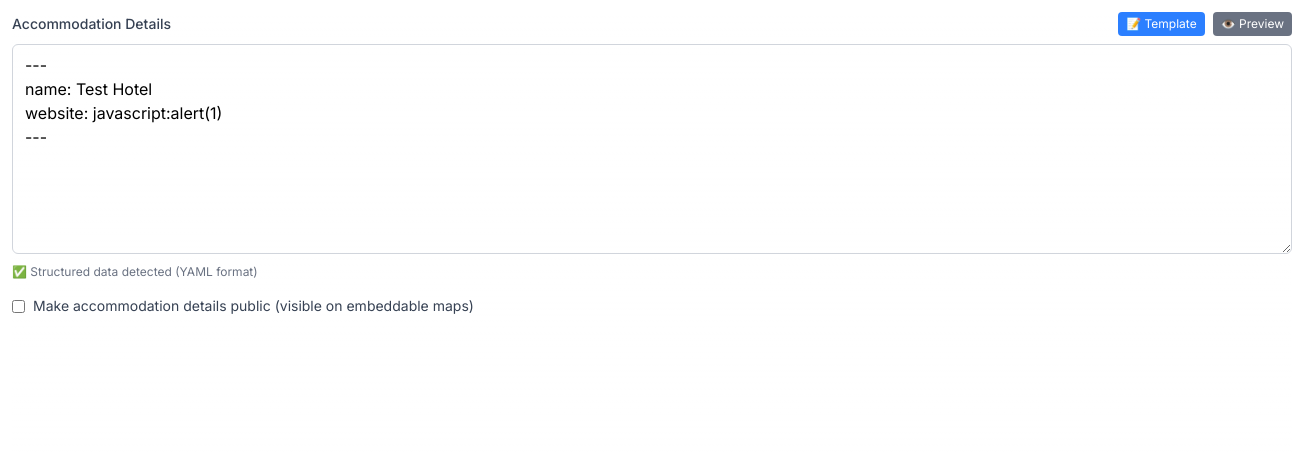
Test: AccommodationInput › does not render unsafe website schemes as preview links
The image size is (1304, 452).
Click the button "👁️ Preview" at (1252, 24), box [1213,12,1292,36]
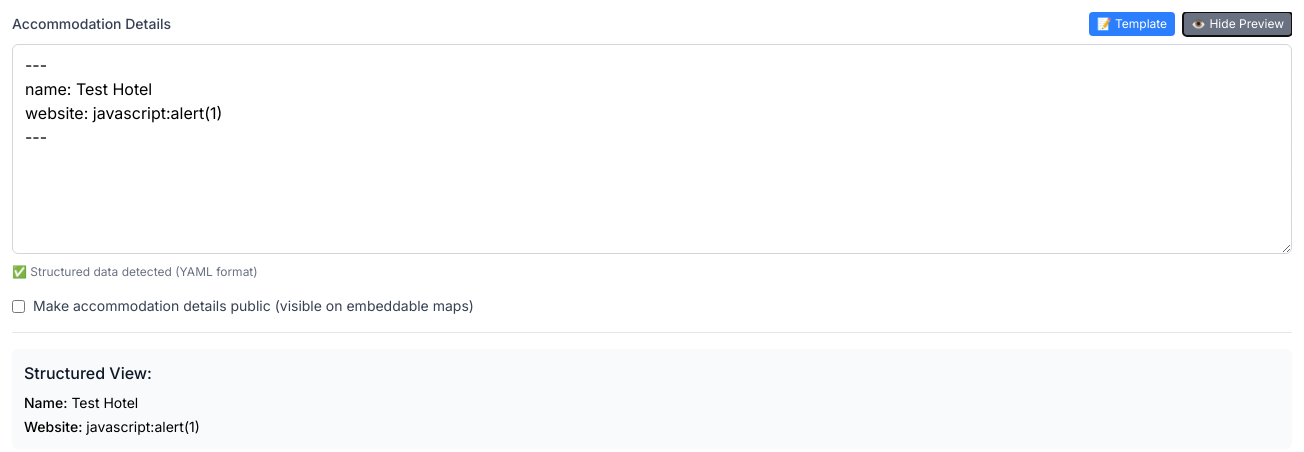
Expected: the text "javascript:alert(1)" is shown, [86,418,200,435]
